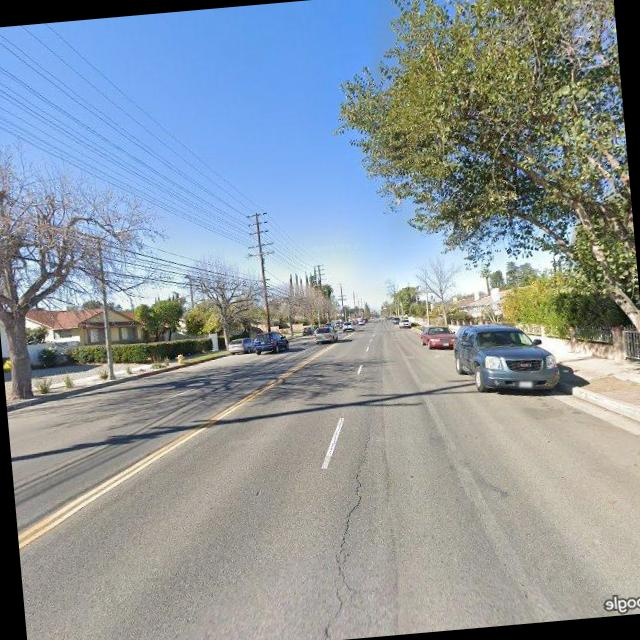pothole: (308, 423, 390, 636)
